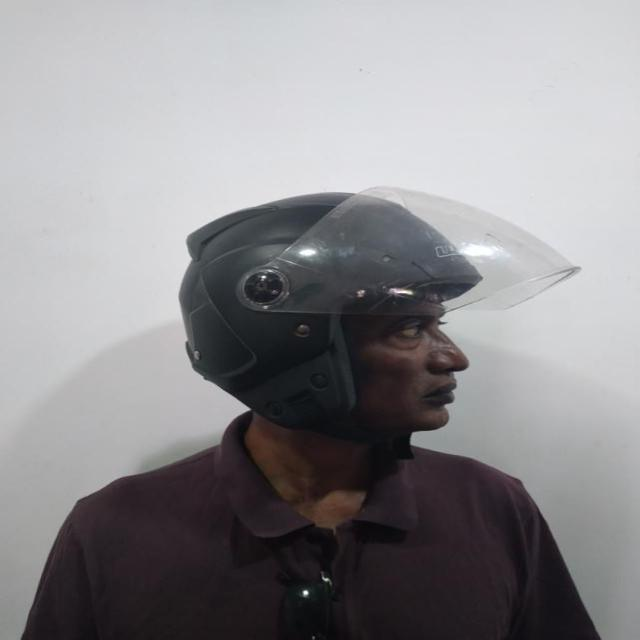With Helmet: (177, 184, 581, 439)
